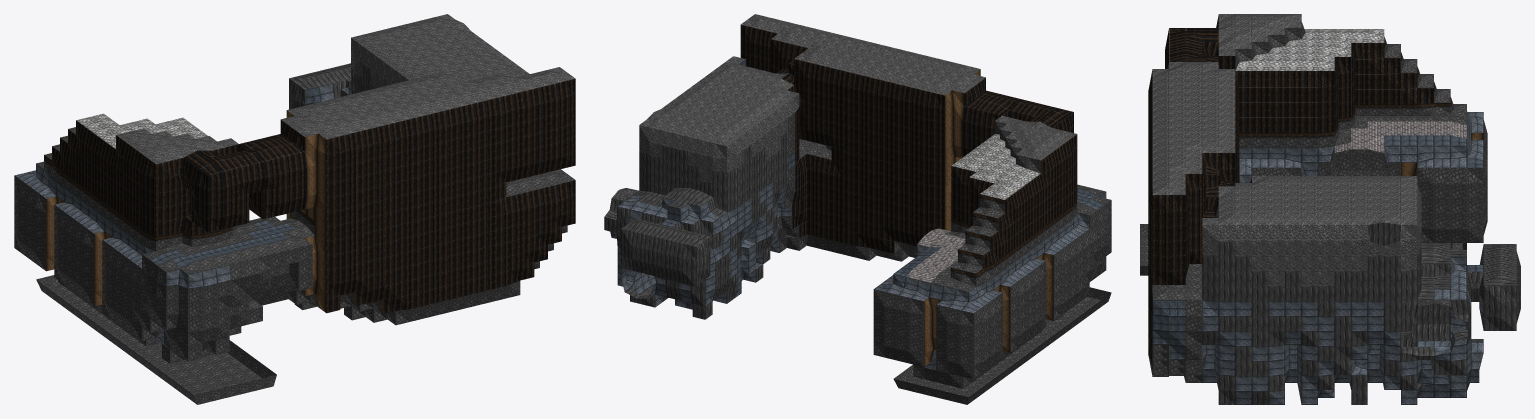
3 renders of one model, left to right at view 1: azimuth 30°, elevation 25°; view 2: azimuth 150°, elevation 25°; view 3: azimuth 270°, elevation 25°, orthographic. The views are drawn at different scales.
Parts seen in each view (by area): view 1: 4thInstance_Level01; view 2: 4thInstance_Level01; view 3: 4thInstance_Level01.
Part boxes in pixels (<box>): 4thInstance_Level01: <box>14,14,575,404</box>; 4thInstance_Level01: <box>604,14,1111,404</box>; 4thInstance_Level01: <box>1140,14,1520,404</box>.
Bounding box in the file's own units: 30.27 × 16 × 23.
